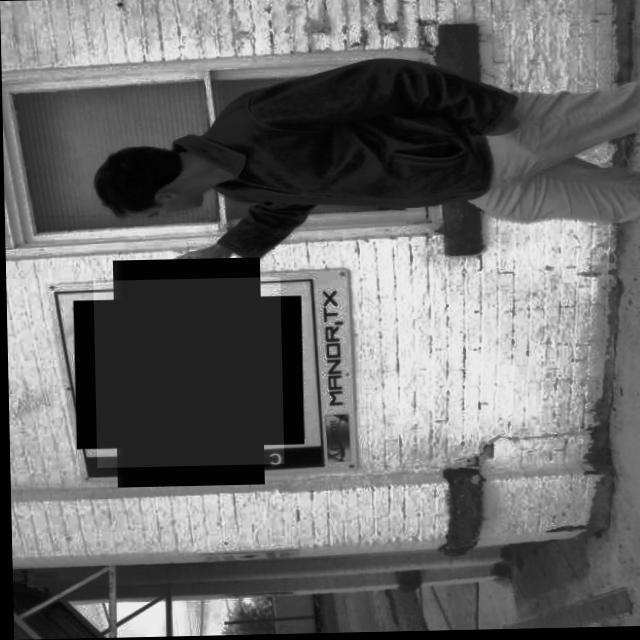qr_code: (92, 277, 282, 467)
